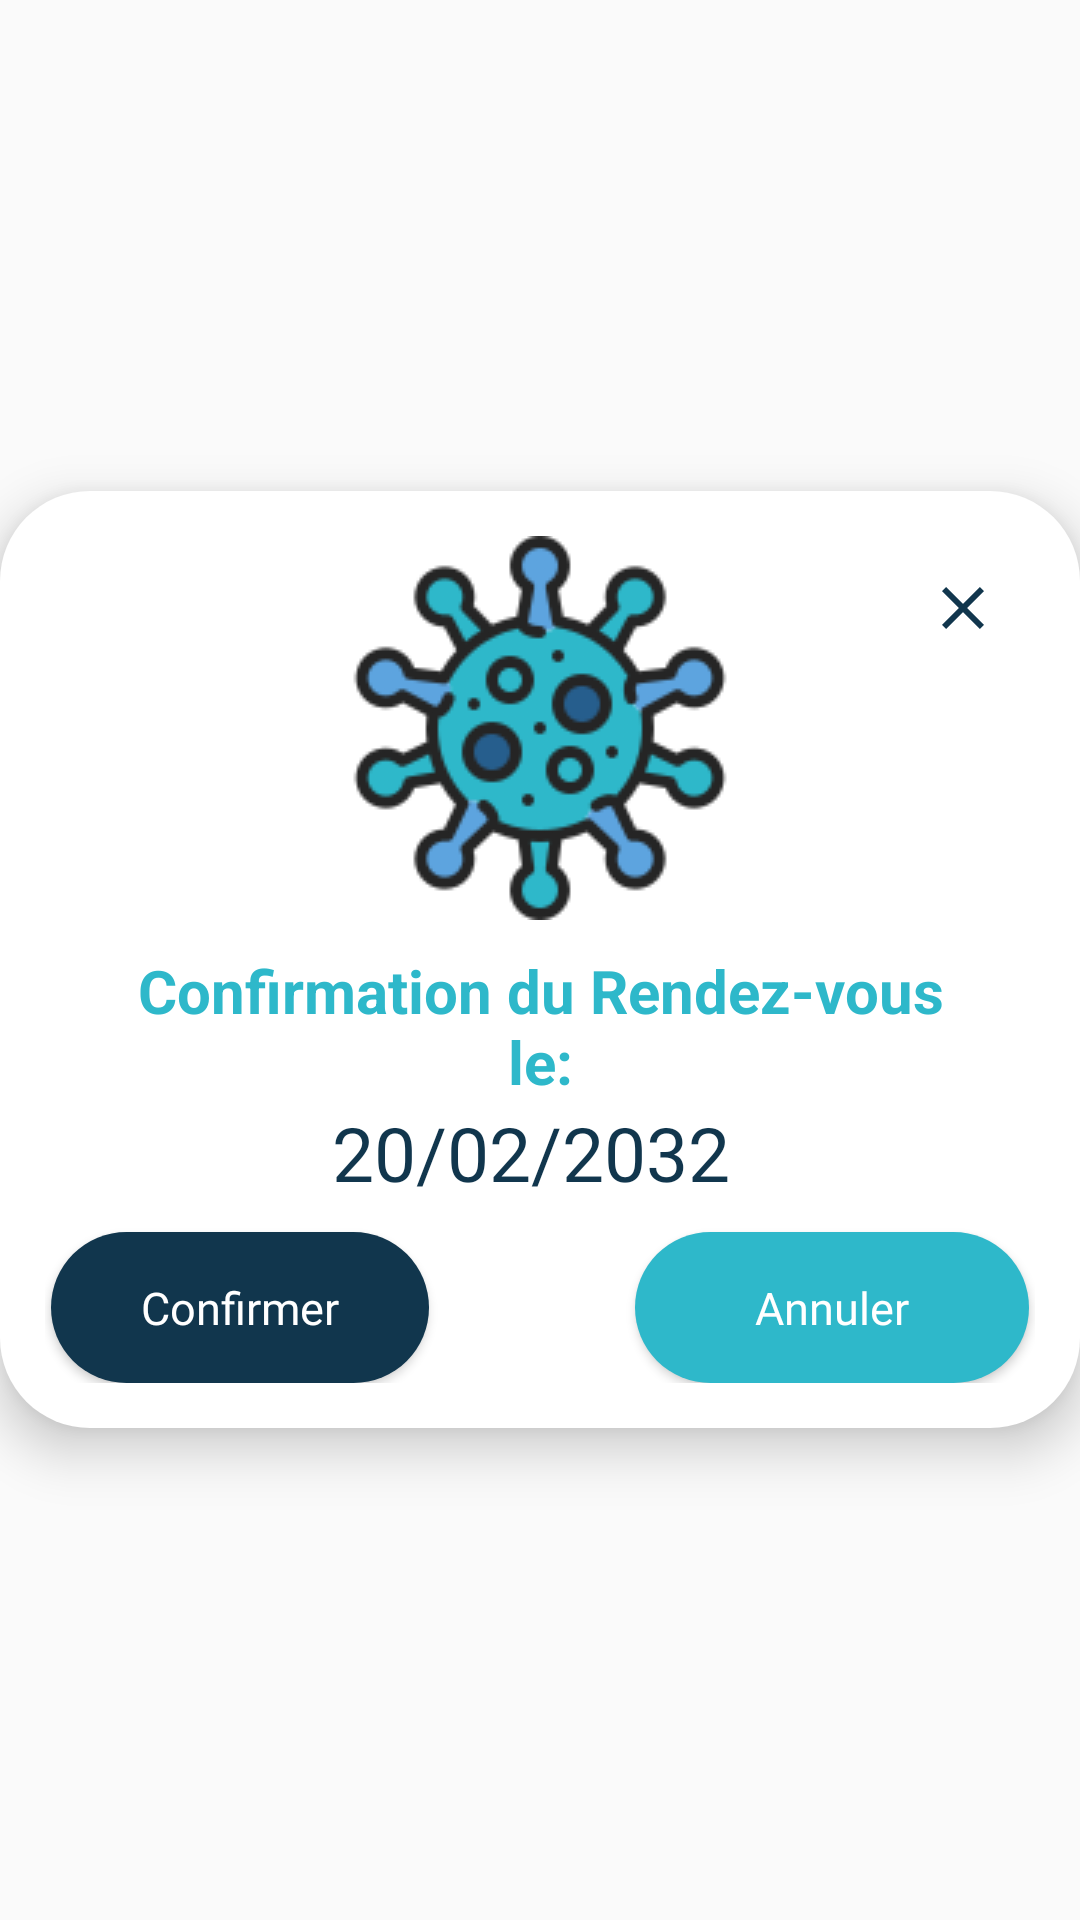

Locate icon controls on the screen. Image size 1080*1920, boxes as BBox(x1, y1, x2, y2).
close: BBox(942, 587, 984, 629)
